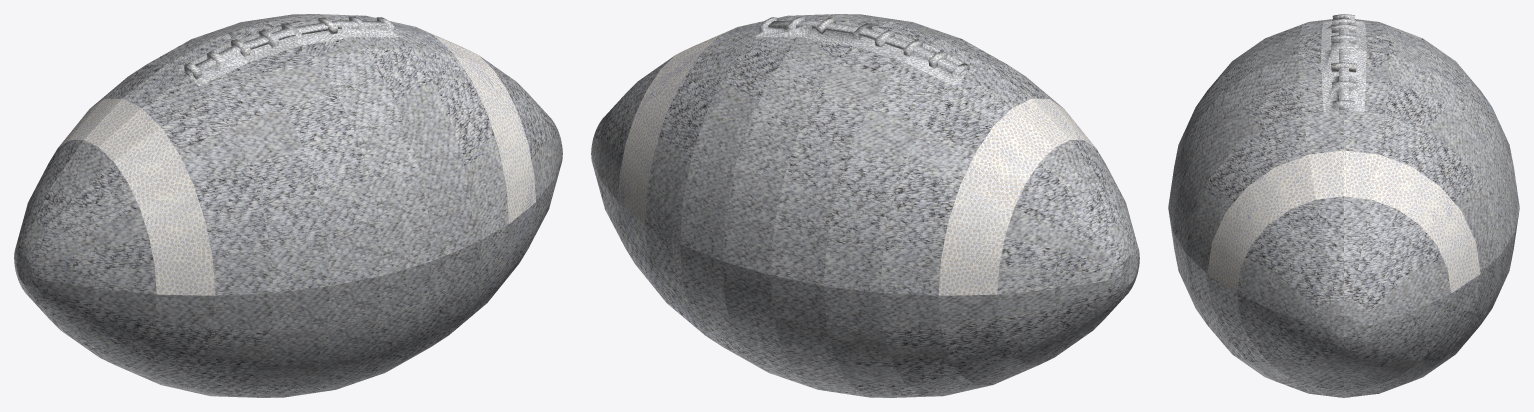
Rendered from rugby.dae.
3 renders of one model, left to right at view 1: azimuth 30°, elevation 25°; view 2: azimuth 150°, elevation 25°; view 3: azimuth 270°, elevation 25°, orthographic. The views are drawn at different scales.
Visible parts, largest first — view 1: SketchUp (×4); view 2: SketchUp (×4); view 3: SketchUp (×3).
Boxes of the visible parts, bbox=[...] form: SketchUp (×4): bbox=[14, 14, 562, 397]; SketchUp (×4): bbox=[591, 14, 1139, 397]; SketchUp (×3): bbox=[1168, 14, 1519, 397].
Size of the model in its own units: 133 by 82.93 by 84.43.
